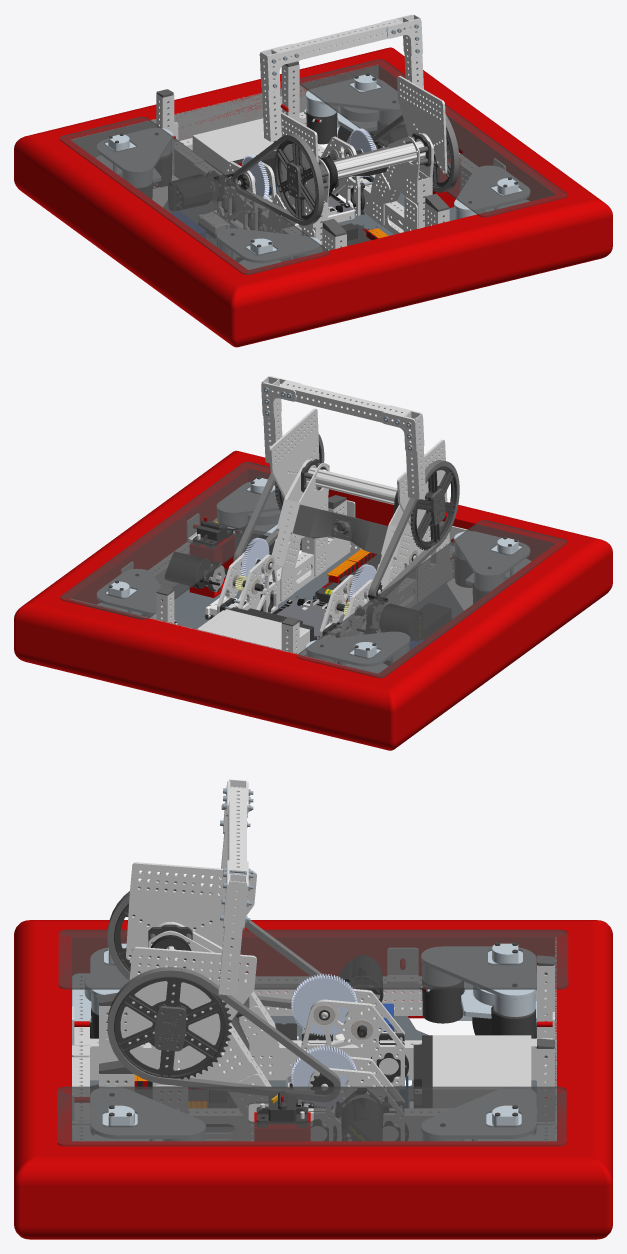
The picture shows the model from 3 angles, top to bottom: view 1: azimuth 30°, elevation 25°; view 2: azimuth 150°, elevation 25°; view 3: azimuth 270°, elevation 25°; orthographic projection. The views are drawn at different scales.
Visible parts, largest first — view 1: Bumpers, Part 1, Simplified MK4i (×4), Part 2, BumperSteelWeight, Elevator Attachment Plate (×2), Simplified Chain (×2), Robot Battery, Tube 2"x1"x25" (×2), Gearbox Plate (×2), Tube 1"x1"x7" (×2), Tube 1"x1"x11.2" (+14 smaller); view 2: Bumpers, Part 1, Part 2, Simplified MK4i (×4), Elevator Attachment Plate (×2), Gearbox Plate (×4), Simplified Chain (×2), Tube 2"x1"x25" (×2), Board - Full, Robot Battery, Main Camera Mount, Kraken X60 Brushless Motor (×2) (+17 smaller); view 3: Bumpers, Part 2, Simplified MK4i (×4), Part 1, Elevator Attachment Plate (×2), Robot Battery, Simplified Chain (×2), Gearbox Plate (×4), Tube 2"x1"x25" (×2), REV-21-3725, 72t 20dp Aluminum 1/2" Hex Bore Gear (217-3576) (×2), Tube 2"x1"x18.5" (×2) (+14 smaller).
Part boxes in pixels (x1,y1,x2,y2): Bumpers: (14,47,612,347); Part 1: (59,116,329,274); Simplified MK4i (×4): (96,73,529,269); Part 2: (299,59,567,217); BumperSteelWeight: (71,64,378,157); Elevator Attachment Plate (×2): (273,75,447,197); Simplified Chain (×2): (233,114,459,225); Robot Battery: (192,118,282,183); Tube 2"x1"x25" (×2): (174,144,424,235); Gearbox Plate (×2): (217,136,360,230); Tube 1"x1"x7" (×2): (260,14,423,141); Tube 1"x1"x11.2": (272,18,402,59); Bumpers: (14,450,612,750); Part 1: (297,520,567,678); Part 2: (60,462,321,619); Simplified MK4i (×4): (97,476,530,672); Elevator Attachment Plate (×2): (269,408,447,528); Gearbox Plate (×4): (217,552,380,664); Simplified Chain (×2): (233,434,459,602); Tube 2"x1"x25" (×2): (197,538,452,655); Board - Full: (173,552,463,632); Robot Battery: (202,607,316,653); Main Camera Mount: (292,504,387,554); Kraken X60 Brushless Motor (×2): (165,552,422,640); Bumpers: (14,920,612,1239); Part 2: (57,1086,566,1146); Simplified MK4i (×4): (72,942,554,1140); Part 1: (58,929,568,989); Elevator Attachment Plate (×2): (126,862,256,1049); Robot Battery: (413,1035,531,1107); Simplified Chain (×2): (107,880,340,1101); Gearbox Plate (×4): (301,989,404,1140); Tube 2"x1"x25" (×2): (90,1040,536,1140); REV-21-3725: (114,976,231,1079); 72t 20dp Aluminum 1/2" Hex Bore Gear (217-3576) (×2): (291,973,357,1107); Tube 2"x1"x18.5" (×2): (72,976,463,1128).
Size of the model in its own units: 0.8509 by 0.4828 by 0.8509.
